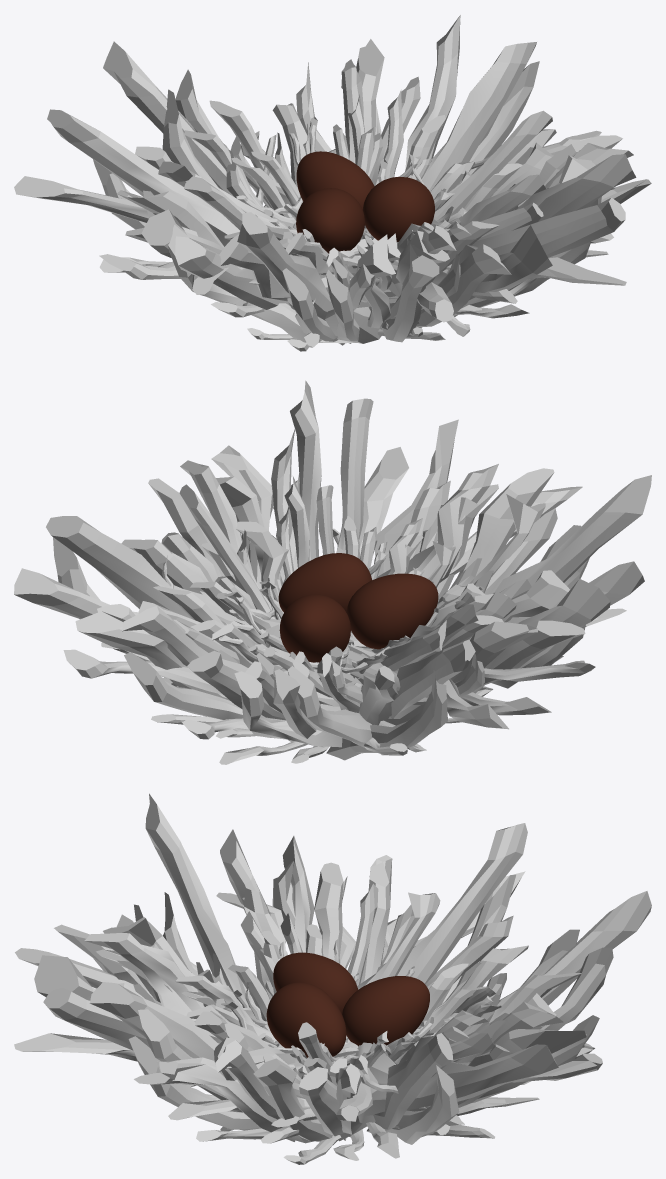
3 renders of one model, top to bottom at view 1: azimuth 30°, elevation 25°; view 2: azimuth 150°, elevation 25°; view 3: azimuth 270°, elevation 25°, orthographic. The views are drawn at different scales.
Visible parts, largest first — view 1: All_GP_Objects:Bird_Nest, All_GP_Objects:nurbsToPoly1, All_GP_Objects:nurbsToPoly2, All_GP_Objects:nurbsToPoly3; view 2: All_GP_Objects:Bird_Nest, All_GP_Objects:nurbsToPoly2, All_GP_Objects:nurbsToPoly3, All_GP_Objects:nurbsToPoly1; view 3: All_GP_Objects:Bird_Nest, All_GP_Objects:nurbsToPoly3, All_GP_Objects:nurbsToPoly1, All_GP_Objects:nurbsToPoly2.
Boxes of the visible parts, box(x1,y1,x2,y2) form: All_GP_Objects:Bird_Nest: box(14, 15, 651, 351); All_GP_Objects:nurbsToPoly1: box(362, 176, 434, 241); All_GP_Objects:nurbsToPoly2: box(296, 188, 364, 253); All_GP_Objects:nurbsToPoly3: box(296, 151, 374, 225); All_GP_Objects:Bird_Nest: box(14, 380, 651, 764); All_GP_Objects:nurbsToPoly2: box(346, 573, 438, 649); All_GP_Objects:nurbsToPoly3: box(279, 594, 350, 662); All_GP_Objects:nurbsToPoly1: box(278, 553, 371, 612); All_GP_Objects:Bird_Nest: box(14, 793, 651, 1164); All_GP_Objects:nurbsToPoly3: box(342, 976, 429, 1046); All_GP_Objects:nurbsToPoly1: box(266, 982, 346, 1057); All_GP_Objects:nurbsToPoly2: box(273, 952, 358, 1013).
Size of the model in its own units: 52.21 by 23.95 by 57.18.
